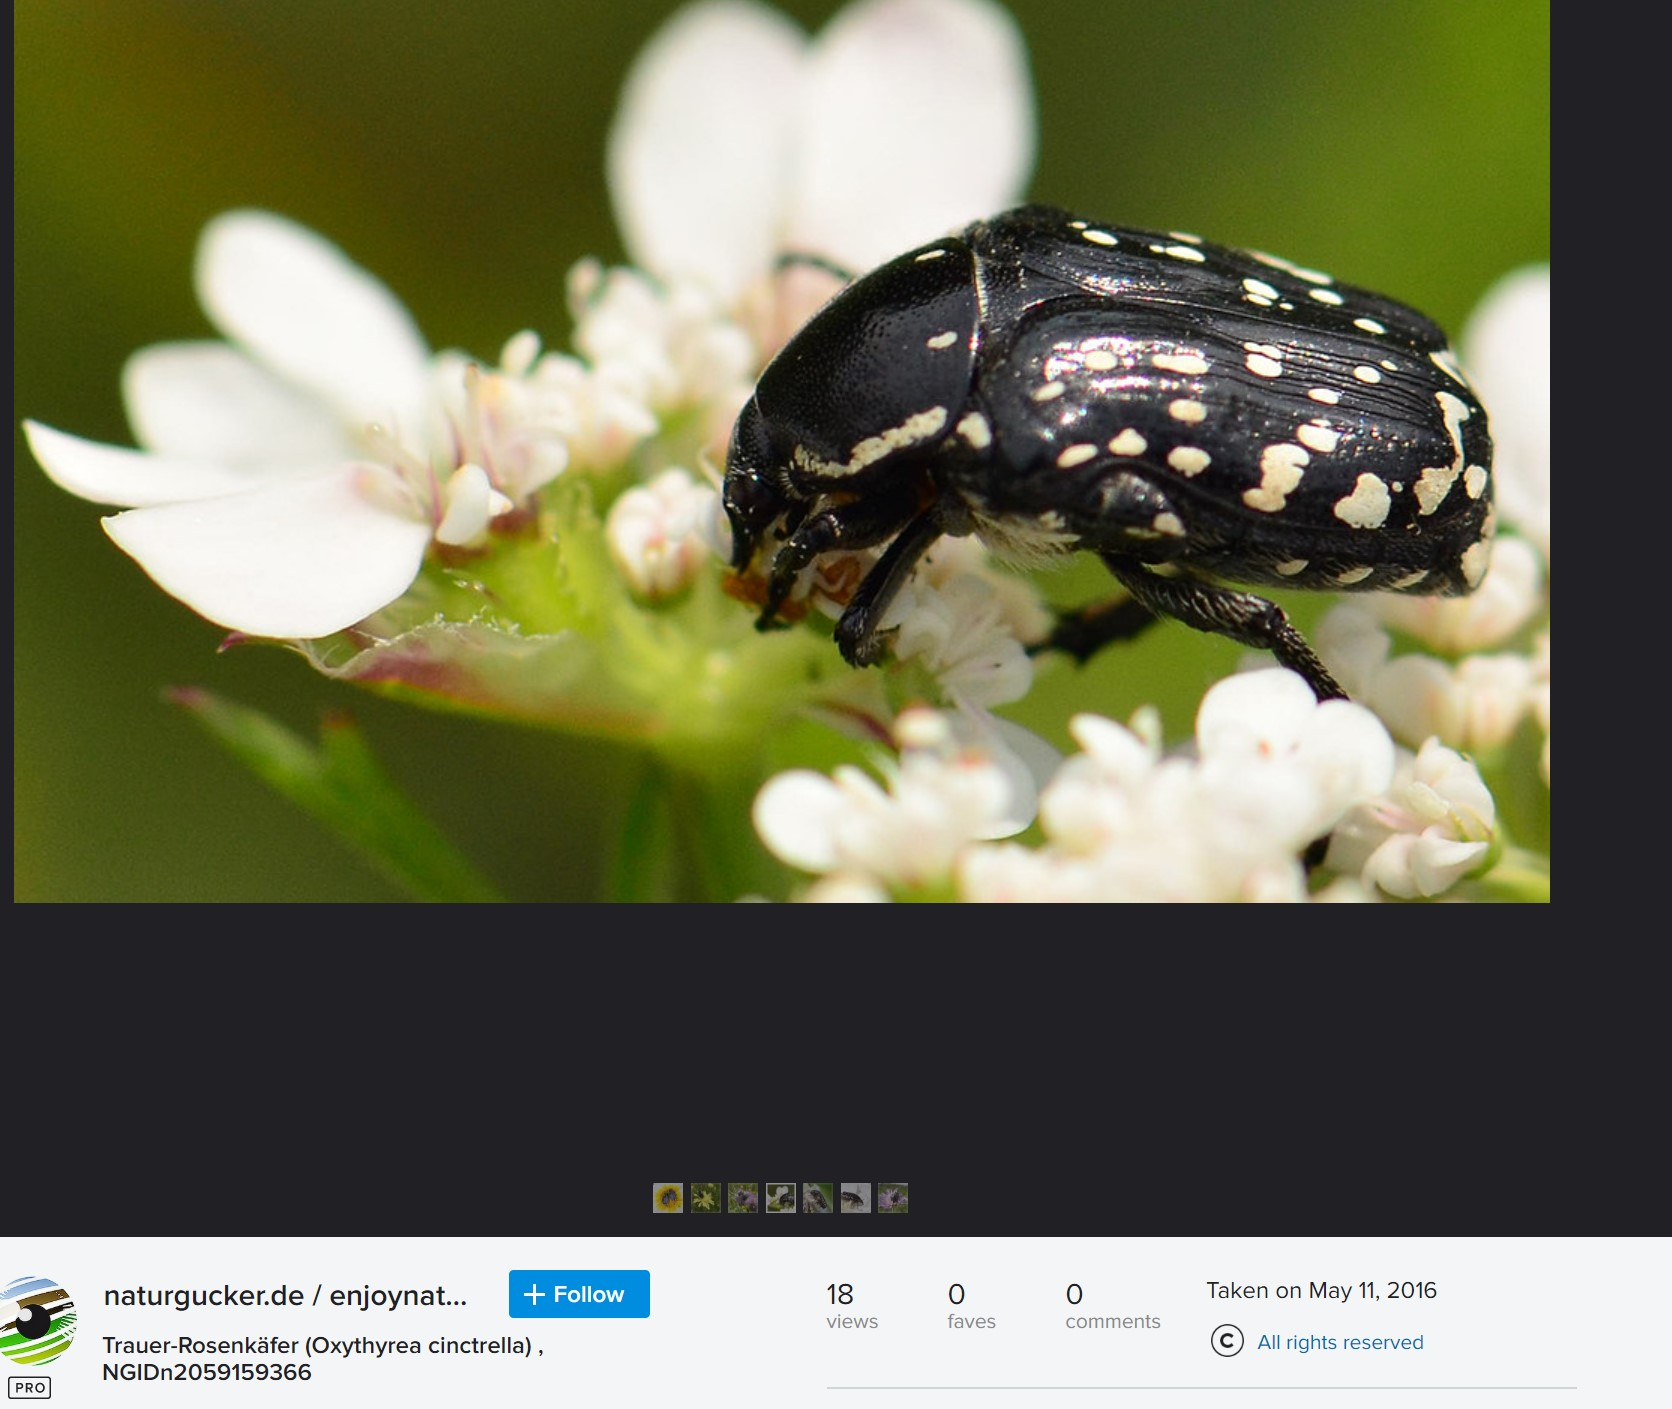Oxythyrea_cinctella: (698, 183, 1494, 711)
